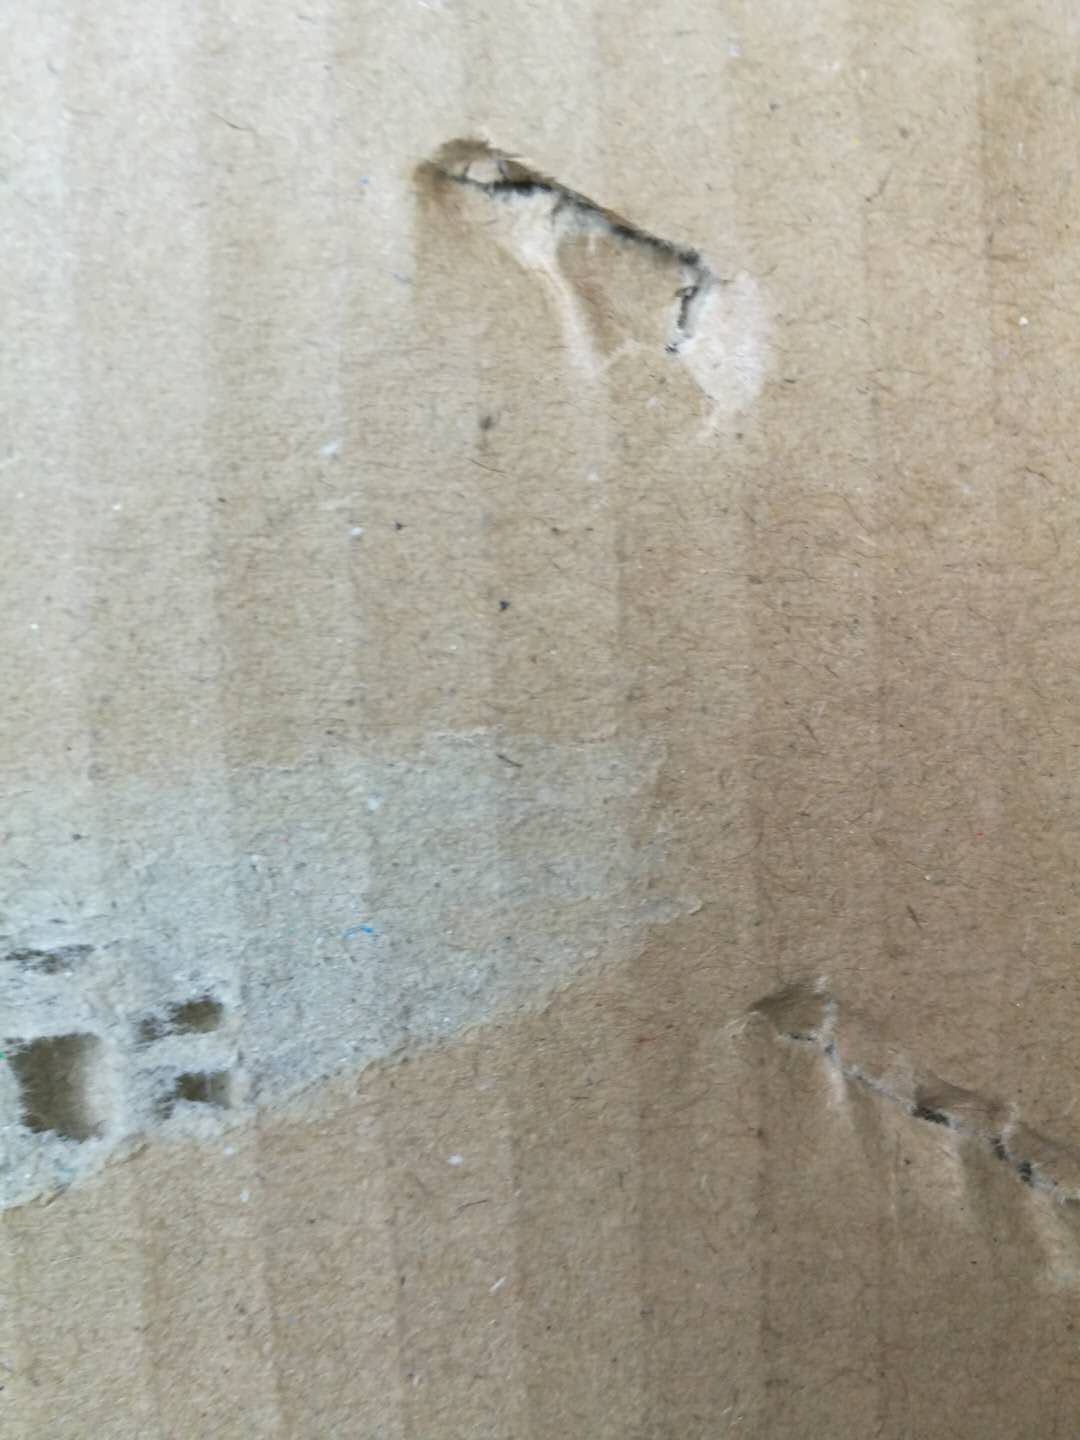defect: (3, 670, 728, 1261), (368, 92, 800, 503), (719, 942, 1079, 1312)
